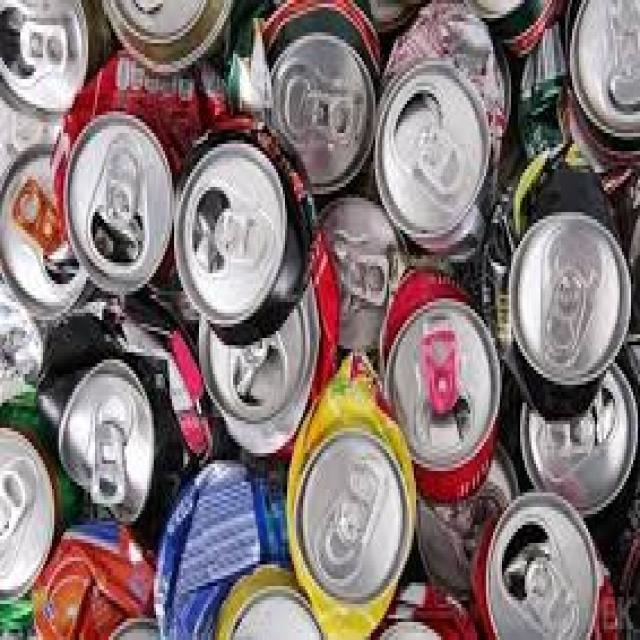Metal: (54, 45, 213, 309), (287, 352, 420, 640), (373, 4, 505, 255), (176, 129, 314, 342), (152, 464, 291, 640), (299, 435, 409, 602), (485, 502, 602, 638), (59, 360, 154, 521), (201, 300, 323, 422), (318, 192, 406, 347), (0, 433, 52, 599)
